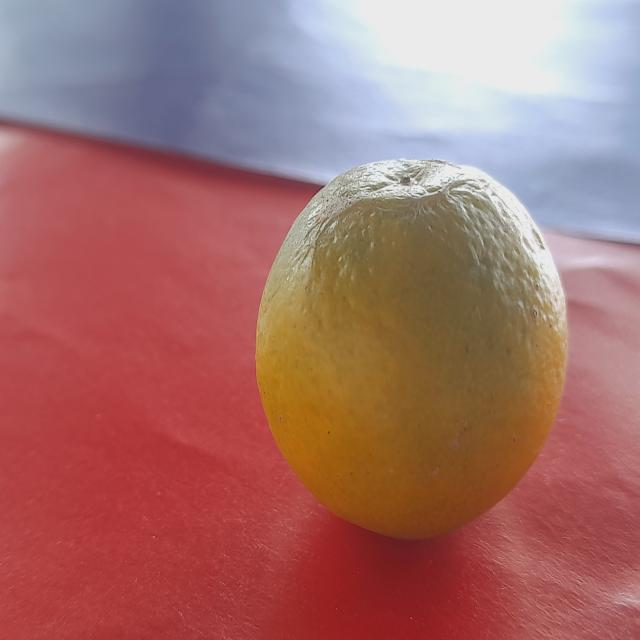greening: (245, 149, 566, 542)
